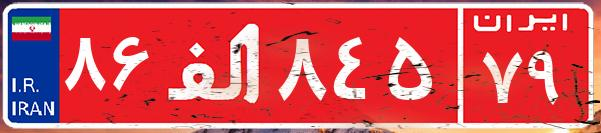4: (330, 28, 385, 110)
5: (385, 28, 445, 110)
6: (110, 28, 158, 105)
7: (475, 38, 525, 113)
8: (273, 28, 330, 110), (57, 26, 110, 107)
9: (525, 38, 570, 115)
الف: (158, 15, 273, 115)
